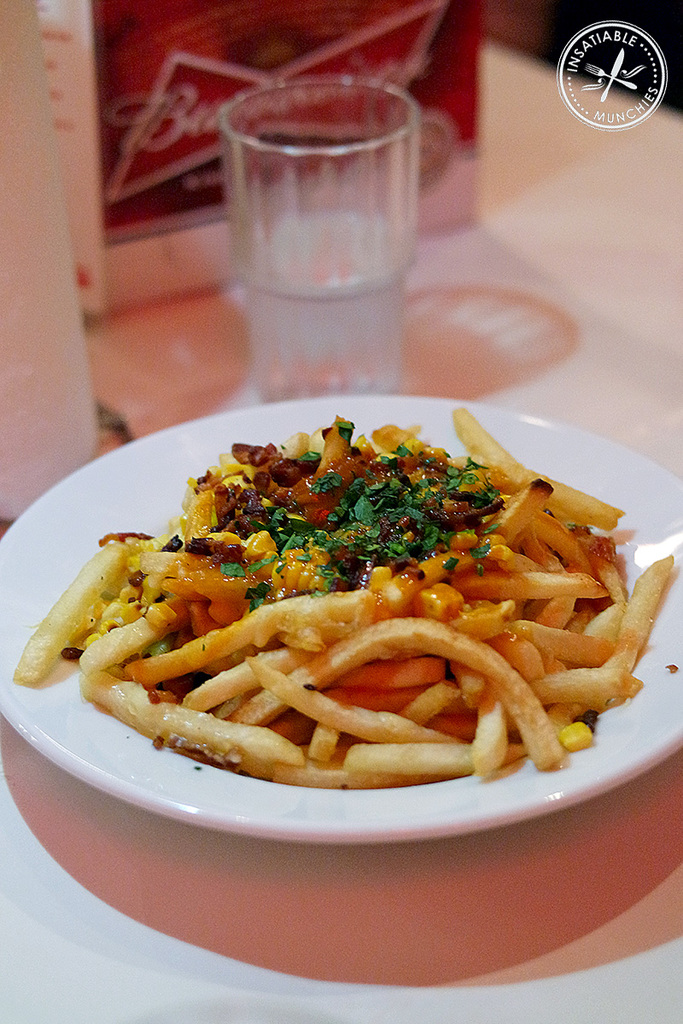French fries: (10, 389, 677, 799)
